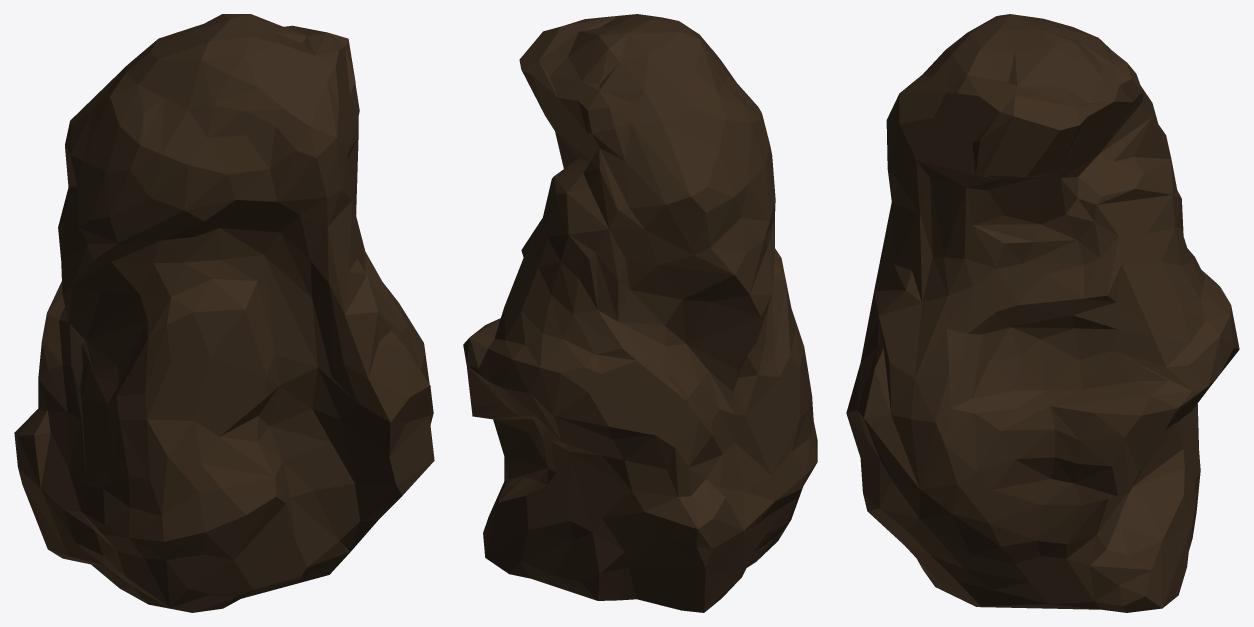
Rendered from SM_cliff_08.FBX.
3 views of the same model, side by side, from view 1: azimuth 30°, elevation 25°; view 2: azimuth 150°, elevation 25°; view 3: azimuth 270°, elevation 25° (orthographic). The views are drawn at different scales.
Parts seen in each view (by area): view 1: Object024; view 2: Object024; view 3: Object024.
Part boxes in pixels (left/top/right/bottom): Object024: left=14, top=14, right=434, bottom=612; Object024: left=463, top=14, right=817, bottom=612; Object024: left=846, top=14, right=1239, bottom=612.
Bounding box in the file's own units: 610 × 1036 × 678.
